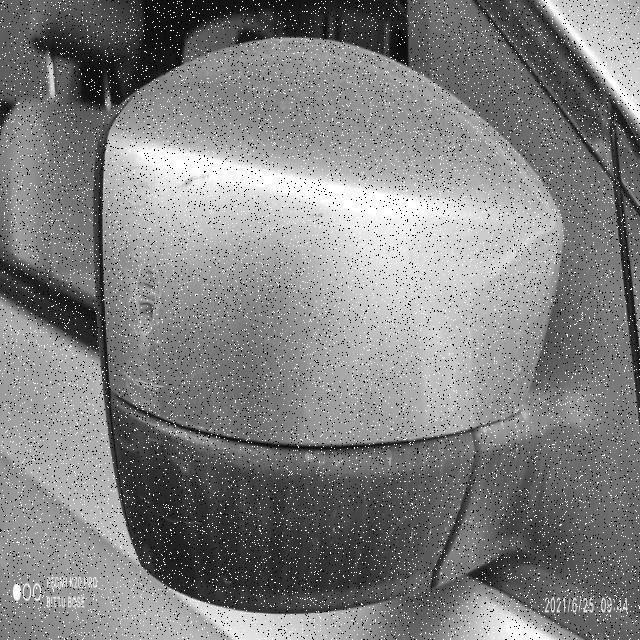Sidemirror-Damage: (87, 23, 570, 637)
